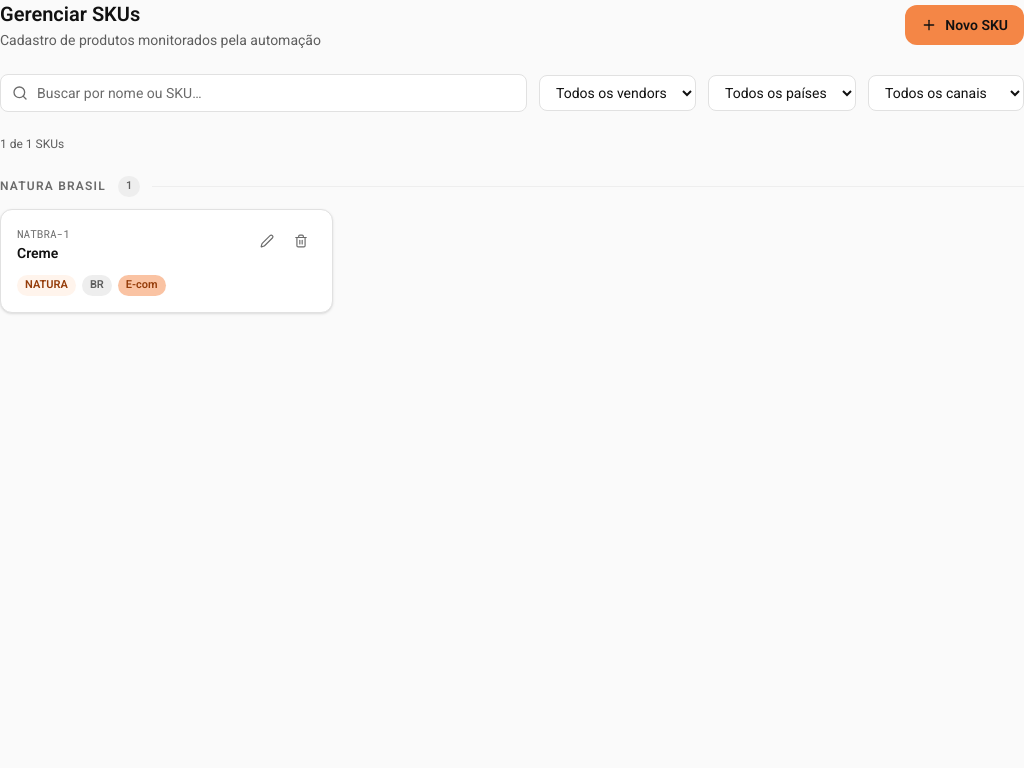
Test case: SkusClient › mantém o formulário aberto com erro quando o SKU sumiu
Click the button named "Editar Creme" at x=267, y=240, box 252,226 -> 282,256
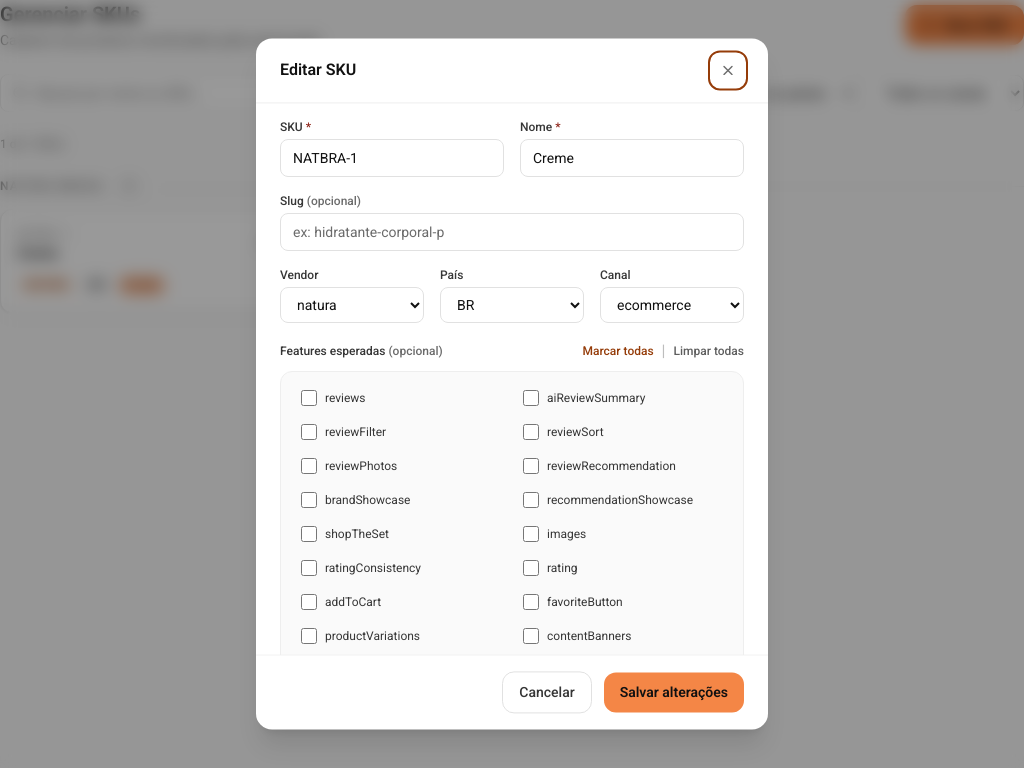
Click the button "Salvar alterações" at x=674, y=693, box 604,673 -> 744,713
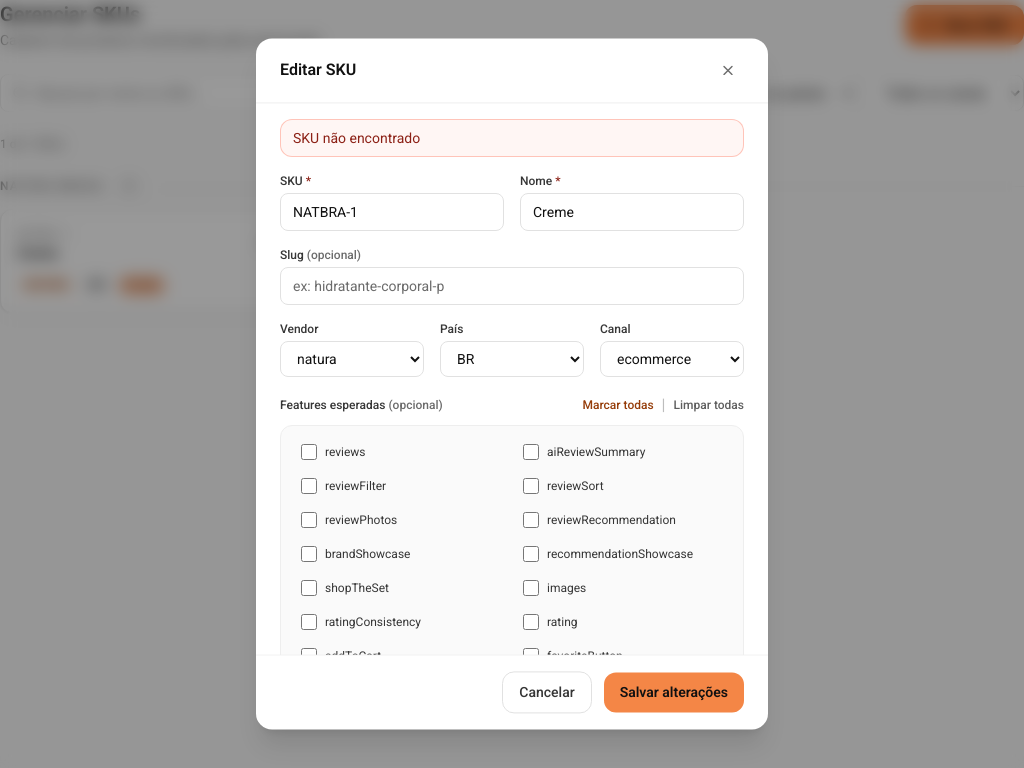
expect the text "SKU não encontrado" is shown: met, box 280,119 -> 744,157
